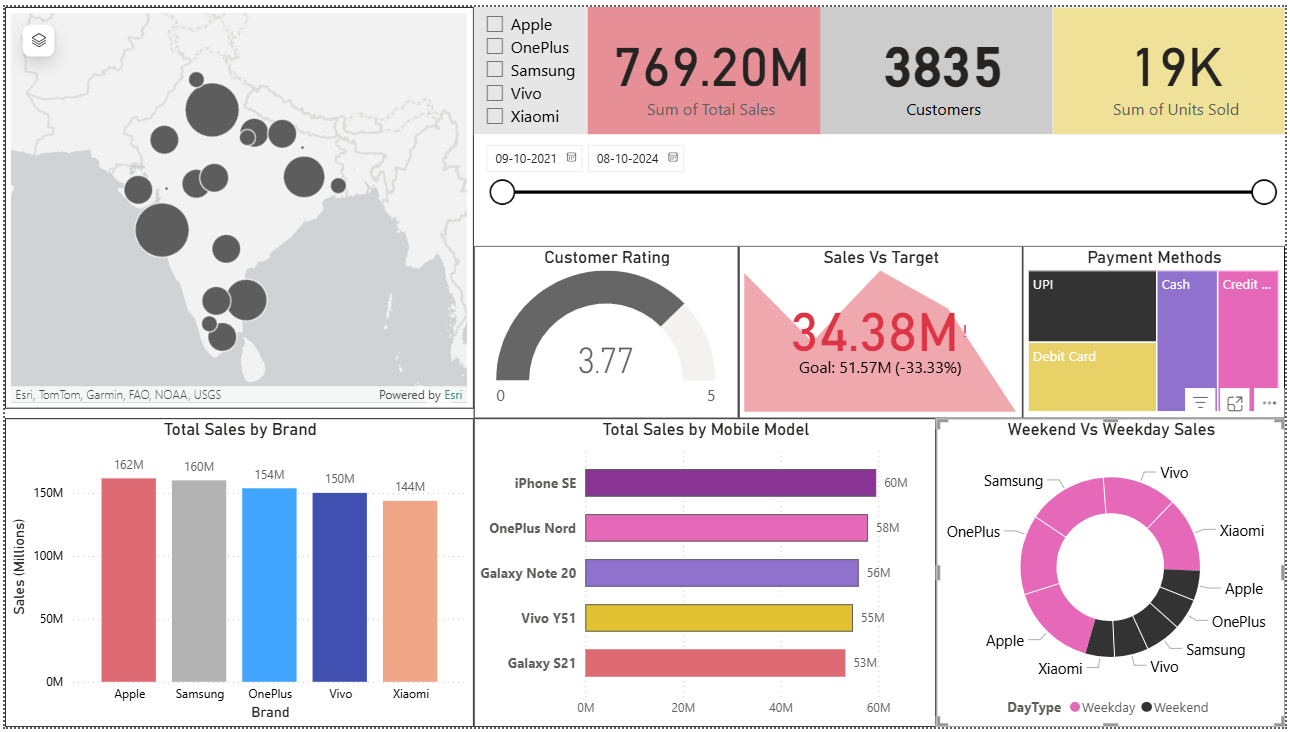

Layout of this report page (visuals, bound fields, positions):
{"tool":"powerbi","page":{"name":"Page 1","canvas":[1280,720],"ordinal":0},"visuals":[{"type":"esriVisual","fields":{"Location":["Main.City"],"Size":["Sum(Main.Units Sold)"]},"box":[0,0,468.8,401.2],"z":0},{"type":"columnChart","title":"Total Sales by Brand","fields":{"Category":["Main.Brand"],"Y":["Sum(Main.TotalSales)"]},"box":[0,411.2,468.8,308.8],"z":1},{"type":"card","fields":{"Values":["Main.TotalCustomers"]},"box":[815,0,232.5,127.5],"z":4},{"type":"donutChart","title":"Weekend Vs Weekday Sales","fields":{"Category":["Main.DayType"],"Y":["Sum(Main.TotalSales)"],"Series":["Main.Brand"]},"box":[931.2,411.2,348.8,308.8],"z":6},{"type":"barChart","title":"Total Sales by Mobile Model","fields":{"Y":["Sum(Main.TotalSales)"],"Category":["Main.Mobile Model"]},"box":[468.8,411.2,462.5,308.8],"z":7},{"type":"gauge","title":"Customer Rating","fields":{"Y":["Main.AvgRating"],"MaxValue":["Main.MaxValue"],"MinValue":["Main.MinValue"]},"box":[468.8,238.8,265,172.5],"z":8},{"type":"card","fields":{"Values":["Sum(Main.TotalSales)"]},"box":[582.5,0,232.5,127.5],"z":9},{"type":"card","fields":{"Values":["Sum(Main.Units Sold)"]},"box":[1047.5,0,232.5,127.5],"z":10},{"type":"slicer","fields":{"Values":["Main.Brand"]},"box":[468.8,0,113.8,127.5],"z":11},{"type":"kpi","title":"Sales Vs Target","fields":{"TrendLine":["Main.Brand"],"Indicator":["Main.Sales2024"],"Goal":["Main.Target2024"]},"box":[733.8,238.8,283.8,172.5],"z":12},{"type":"treemap","title":"Payment Methods","fields":{"Group":["Main.Payment Method"],"Values":["Sum(Main.Units Sold)"]},"box":[1017.5,238.8,262.5,172.5],"z":13},{"type":"slicer","fields":{"Values":["Main.FullDate"]},"box":[468.8,127.5,811.2,111.2],"z":14}]}

Visuals, with their boxes in screenshot pixels (x1, y1, x2, y2), scaled from the page's 1280x720 canvas onto the 1290x732 screenshot:
esriVisual - Main.City x Sum(Main.Units Sold): bbox=(0, 0, 472, 408)
"Total Sales by Brand" columnChart: bbox=(0, 418, 472, 731)
card - Main.TotalCustomers: bbox=(821, 0, 1056, 130)
"Weekend Vs Weekday Sales" donutChart: bbox=(938, 418, 1289, 731)
"Total Sales by Mobile Model" barChart: bbox=(472, 418, 939, 731)
"Customer Rating" gauge: bbox=(472, 243, 740, 418)
card - Sum(Main.TotalSales): bbox=(587, 0, 821, 130)
card - Sum(Main.Units Sold): bbox=(1056, 0, 1289, 130)
slicer - Main.Brand: bbox=(472, 0, 587, 130)
"Sales Vs Target" kpi: bbox=(740, 243, 1026, 418)
"Payment Methods" treemap: bbox=(1025, 243, 1289, 418)
slicer - Main.FullDate: bbox=(472, 130, 1289, 243)
